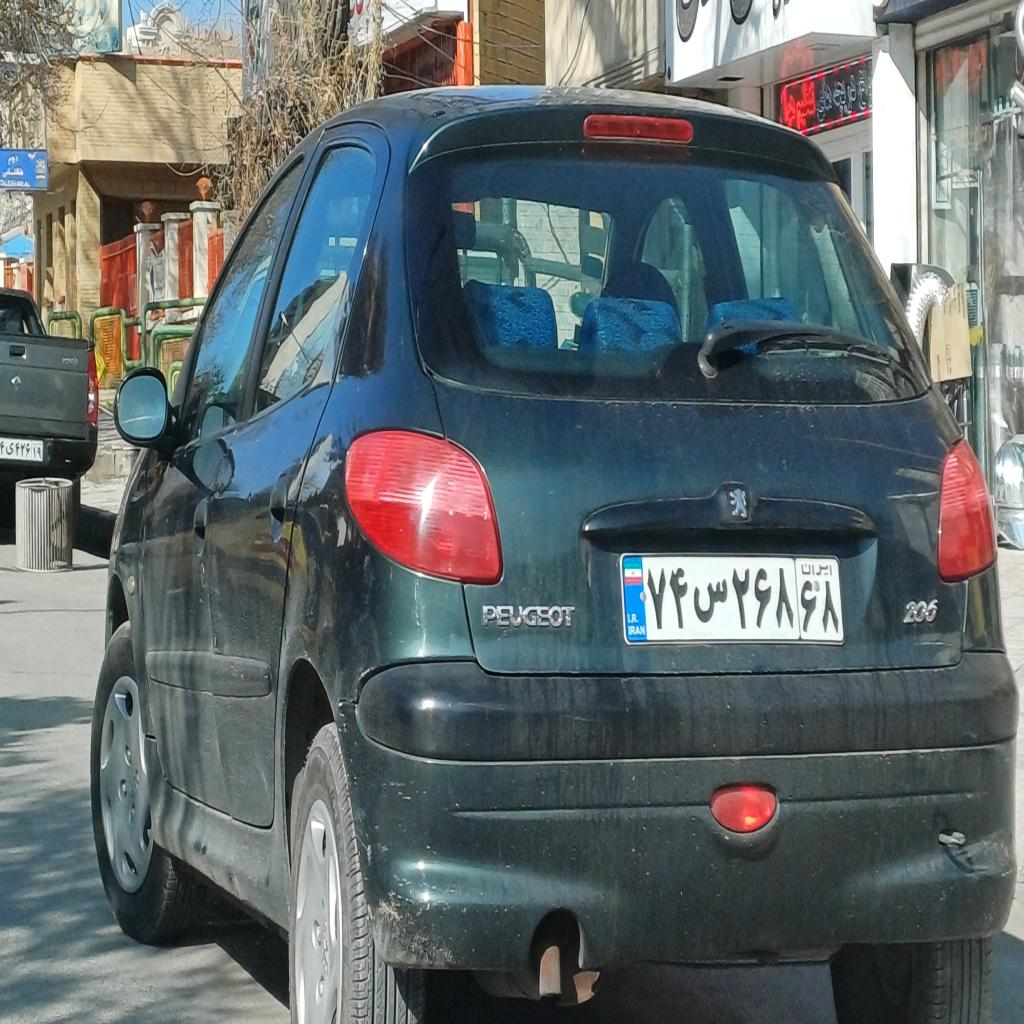Plates: (622, 554, 846, 643)
